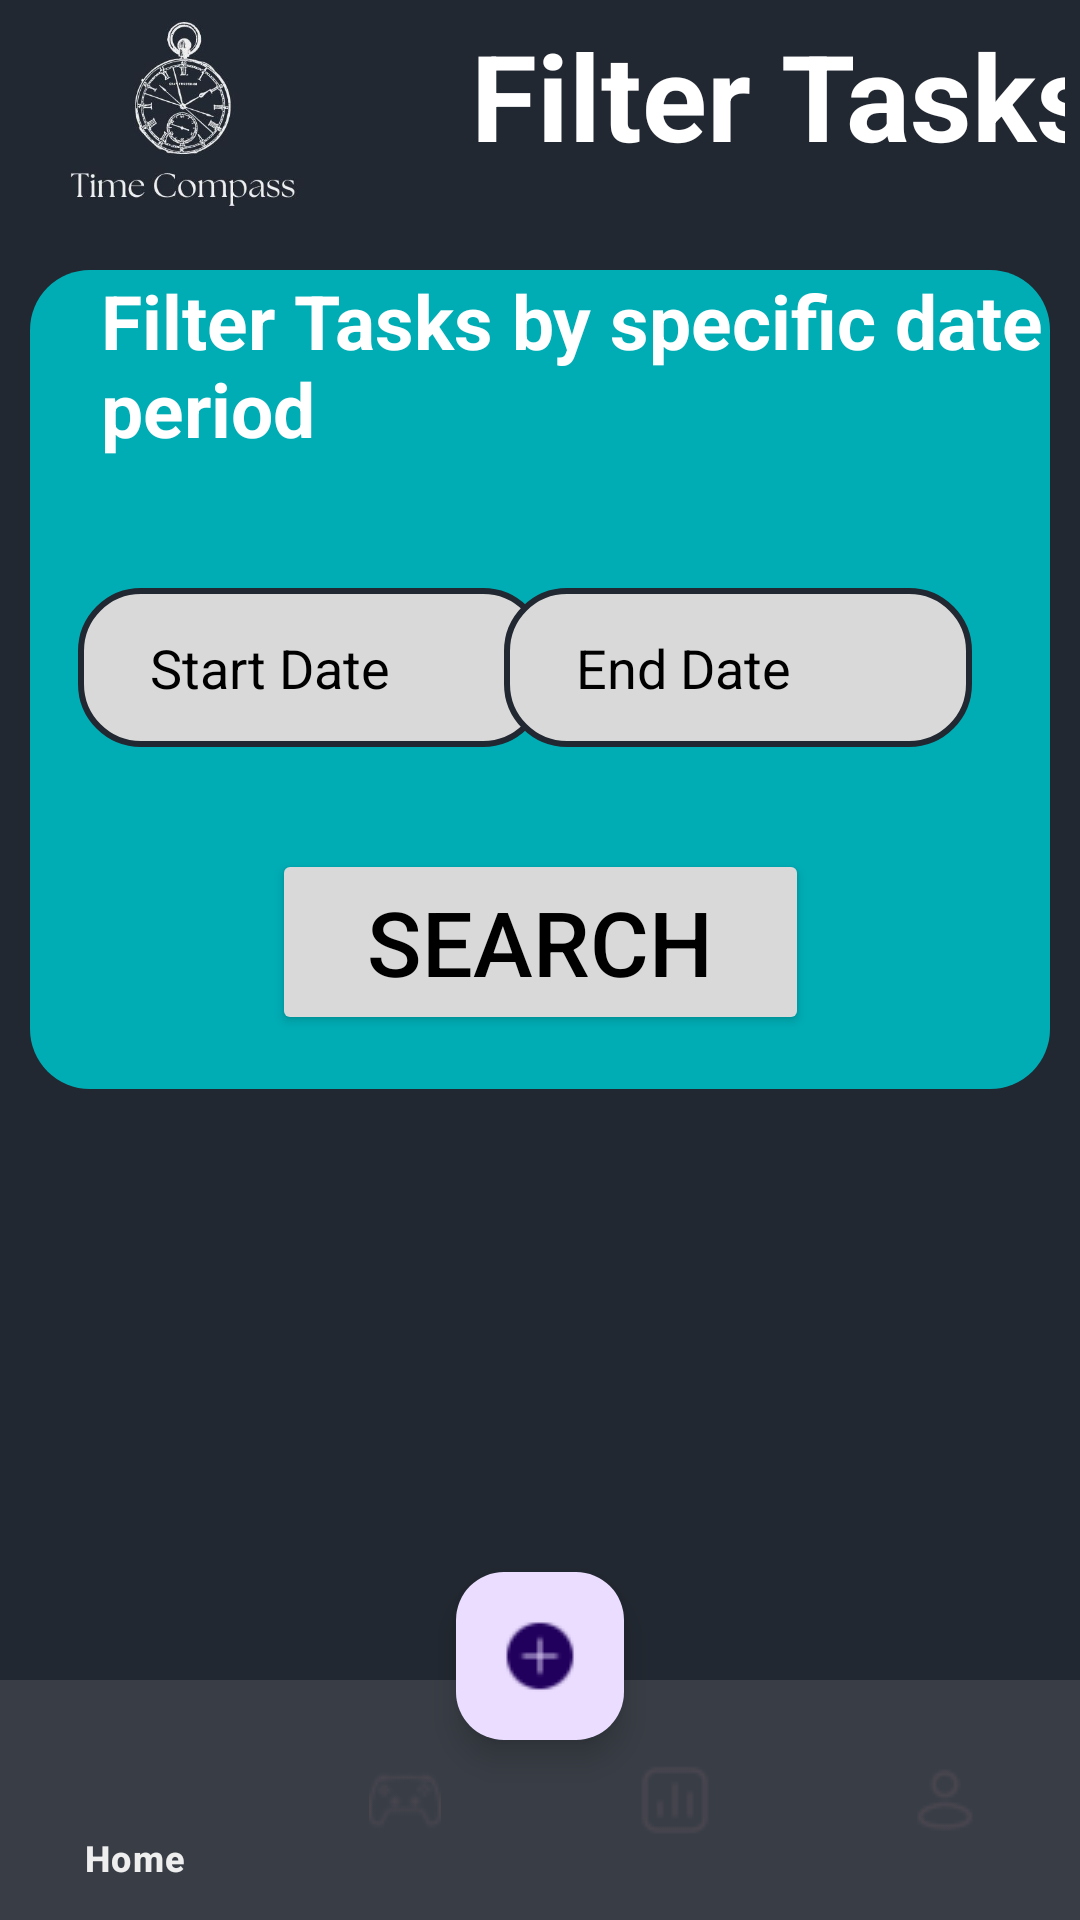

Icons on this 1080 x 1920 Android screen, each with the point to tap as (x=x, y=y):
plus: (x=540, y=1656)
